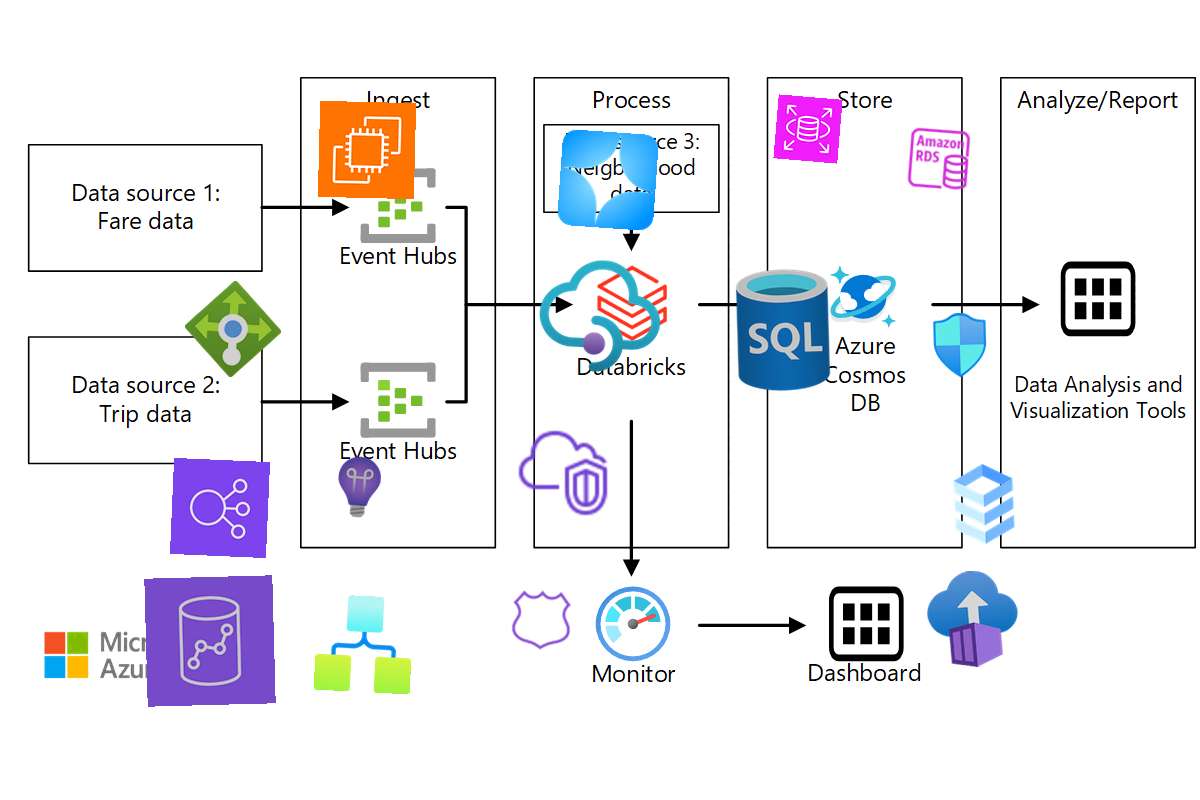aws_amazon_ec2: (317, 100, 417, 200)
aws_amazon_rds: (773, 94, 843, 164)
aws_amazon_redshift: (144, 575, 276, 707)
aws_aurora_amazon_rds_instance: (904, 124, 974, 194)
aws_elastic_load_balancing: (169, 457, 271, 559)
aws_route_53_hosted_zone: (508, 586, 576, 654)
aws_vpc_virtual_private_cloud_vpc: (514, 424, 612, 522)
azure_api_management_services: (532, 248, 668, 384)
azure_application_insights: (324, 452, 394, 522)
azure_container_instances: (921, 567, 1025, 671)
azure_load_balancers: (182, 278, 284, 380)
azure_logic_apps: (313, 593, 415, 695)
azure_network_security_groups: (927, 312, 993, 378)
azure_openai: (556, 128, 660, 232)
azure_sql_database: (717, 264, 849, 396)
gcp_cloud_sql: (933, 453, 1035, 555)
